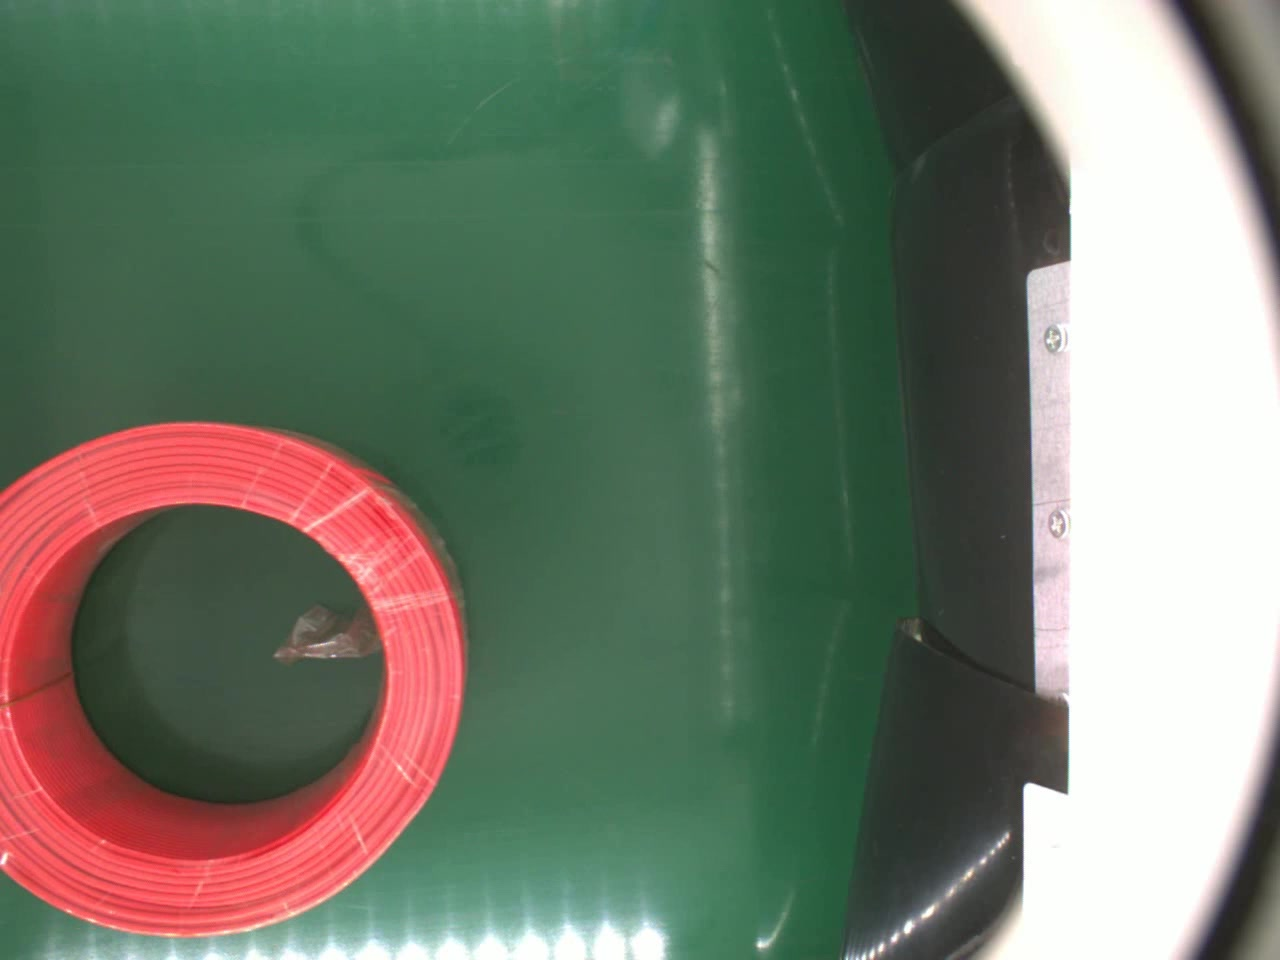red: (0, 419, 461, 940)
